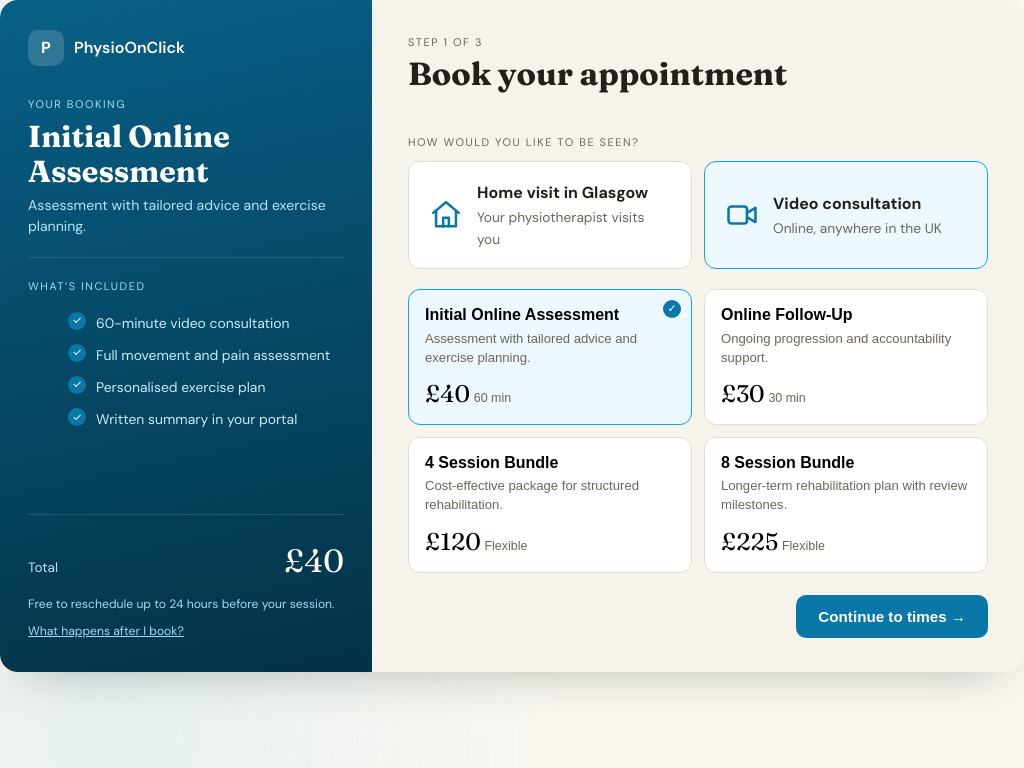
Scenario: booking visit type › shows a home-visit title and checklist in the rail
expect the heading with class "book-rail-title" reads "Initial Online Assessment": met, box [28,117,230,190]
Click the radio button labelled "Home visit in Glasgow Your physiotherapist visits you" at (550, 215), box [408,161,692,269]
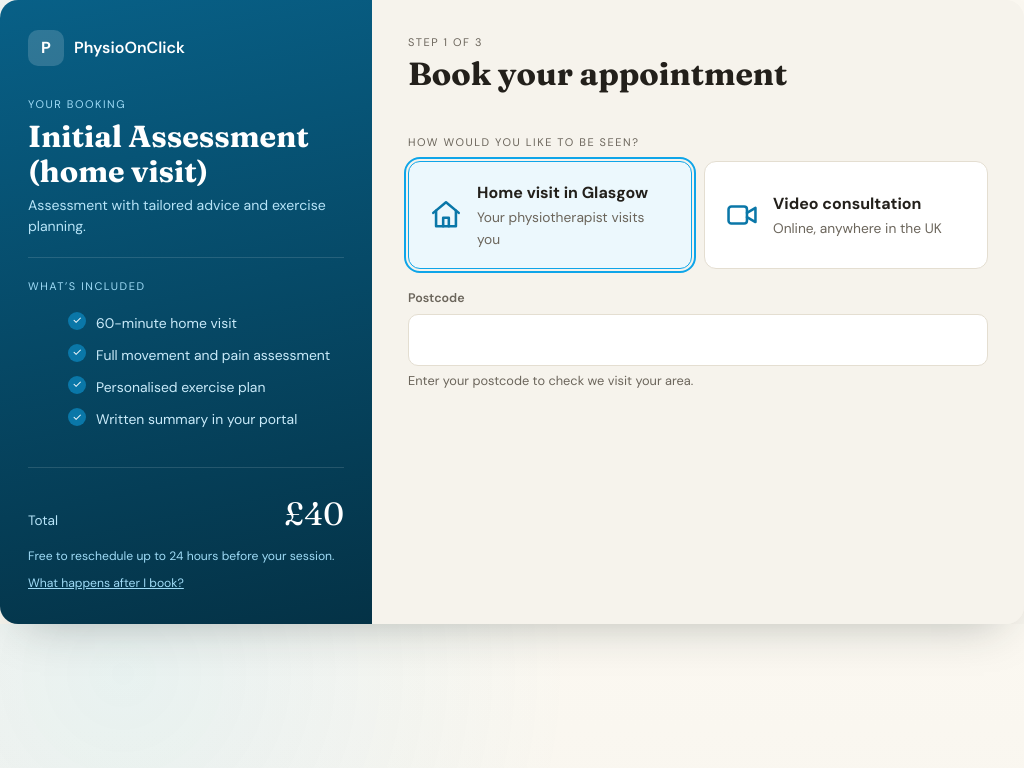
expect the heading with class "book-rail-title" reads "Initial Assessment (home visit)": met, box [28,117,309,190]
expect the element with class "book-rail-list" no longer shows "video": met
